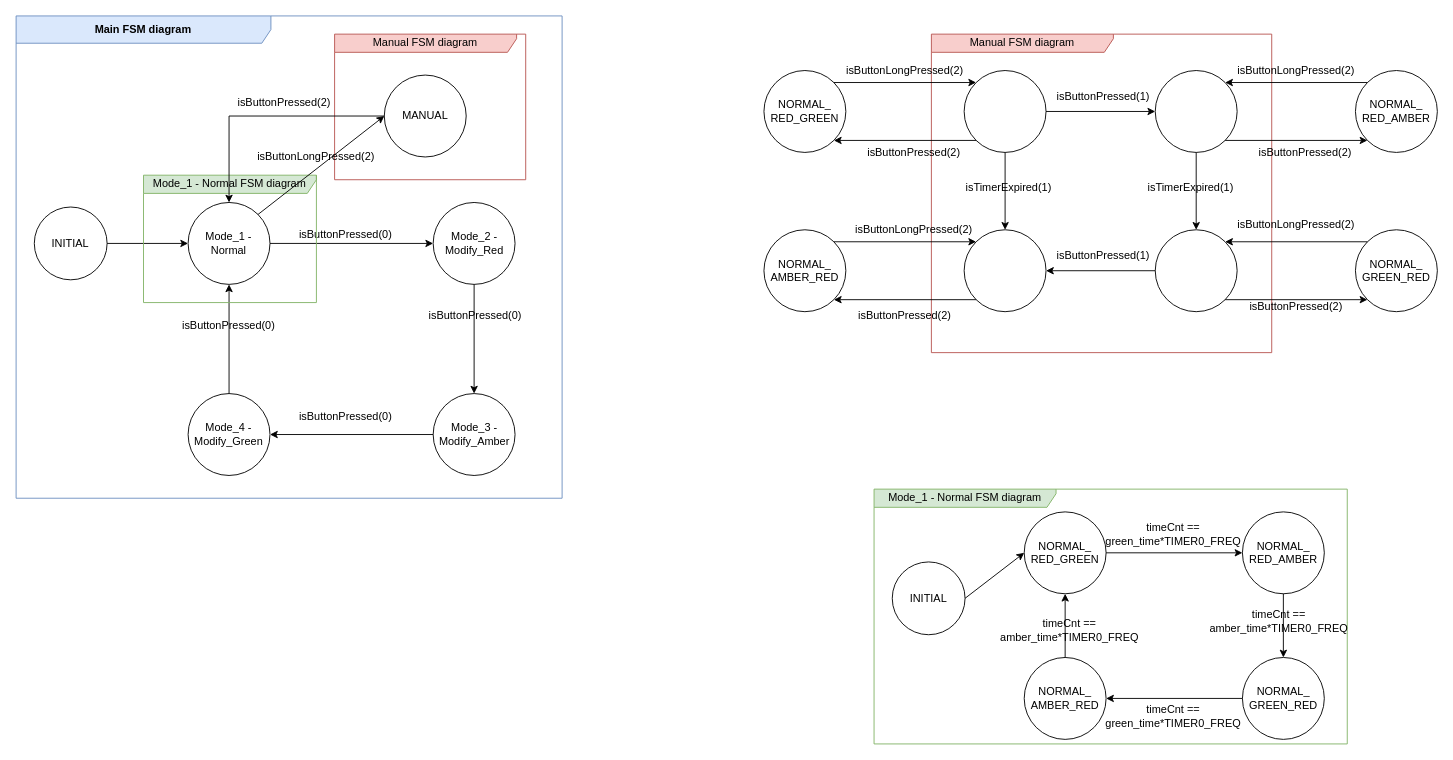
Some shapes in this 1453 by 760 pixel diagram are drawn without their labels. The centre of each missing label's shape, as x and y in pixels:
"MANUAL_ AMBER_RED" belongs at [1004,270].
"MANUAL_ GREEN_RED" belongs at [1195,270].
"MANUAL_ RED_AMBER" belongs at [1195,111].
"MANUAL_ RED_GREEN" belongs at [1004,111].
